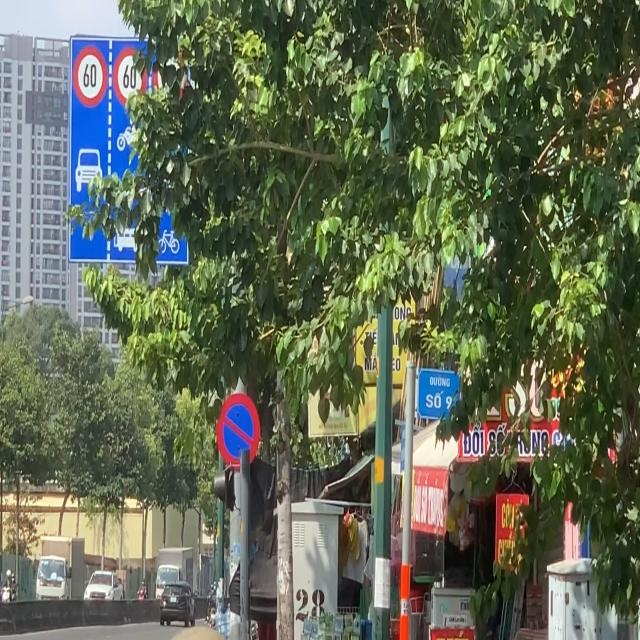bien_chi_dan: (216, 378, 264, 476), (72, 42, 111, 120), (113, 43, 145, 119)
